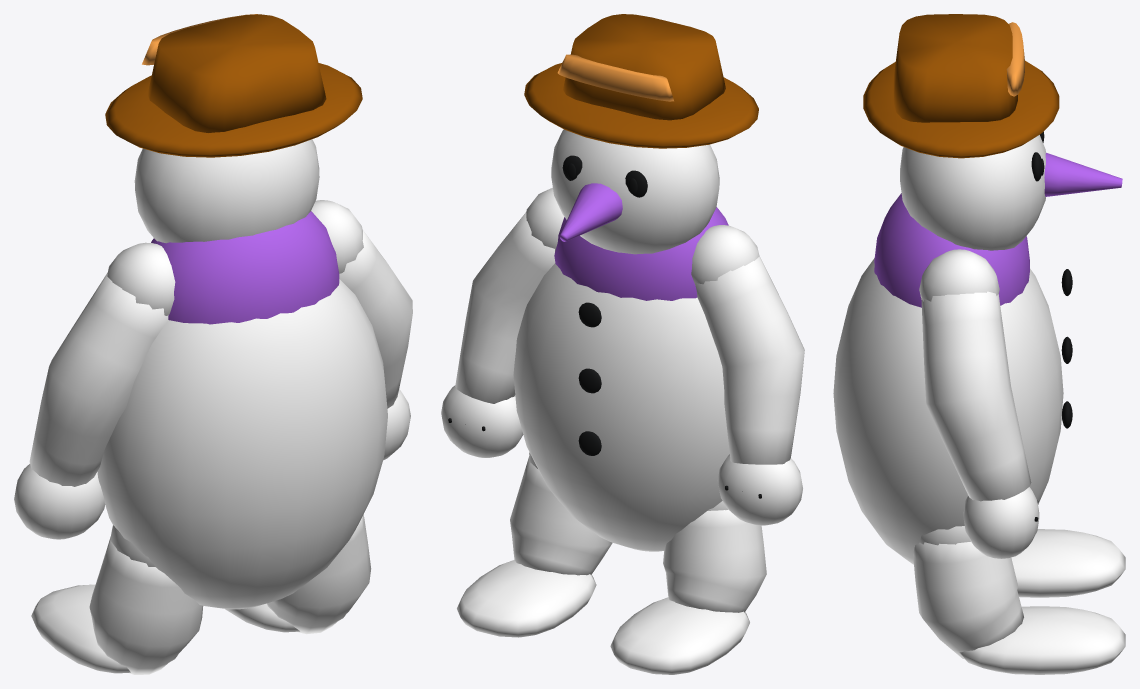
File: Snowman.glb
3 renders of one model, left to right at view 1: azimuth 30°, elevation 25°; view 2: azimuth 150°, elevation 25°; view 3: azimuth 270°, elevation 25°, orthographic. The views are drawn at different scales.
Visible parts, largest first — view 1: Body, Head, LeftArm, LeftLeg, RightArm, RightLeg; view 2: Body, Head, LeftArm, LeftLeg, RightArm, RightLeg; view 3: Body, Head, RightArm, RightLeg, LeftLeg.
Boxes of the visible parts, x1=… form: Body: x1=97, y1=211, x2=387, y2=609; Head: x1=105, y1=14, x2=362, y2=243; LeftArm: x1=14, y1=242, x2=175, y2=539; LeftLeg: x1=31, y1=525, x2=203, y2=674; RightArm: x1=311, y1=200, x2=412, y2=460; RightLeg: x1=225, y1=514, x2=371, y2=634; Body: x1=513, y1=207, x2=729, y2=551; Head: x1=524, y1=14, x2=758, y2=254; LeftArm: x1=691, y1=225, x2=804, y2=525; LeftLeg: x1=610, y1=501, x2=766, y2=674; RightArm: x1=441, y1=187, x2=564, y2=457; RightLeg: x1=457, y1=452, x2=612, y2=637; Body: x1=833, y1=193, x2=1072, y2=564; Head: x1=863, y1=14, x2=1122, y2=250; RightArm: x1=919, y1=249, x2=1039, y2=558; RightLeg: x1=913, y1=526, x2=1125, y2=674; LeftLeg: x1=1011, y1=529, x2=1125, y2=597.
Size of the model in its own units: 1.01 by 1.54 by 0.6992.
Materials: 1 (1 with a texture image).
